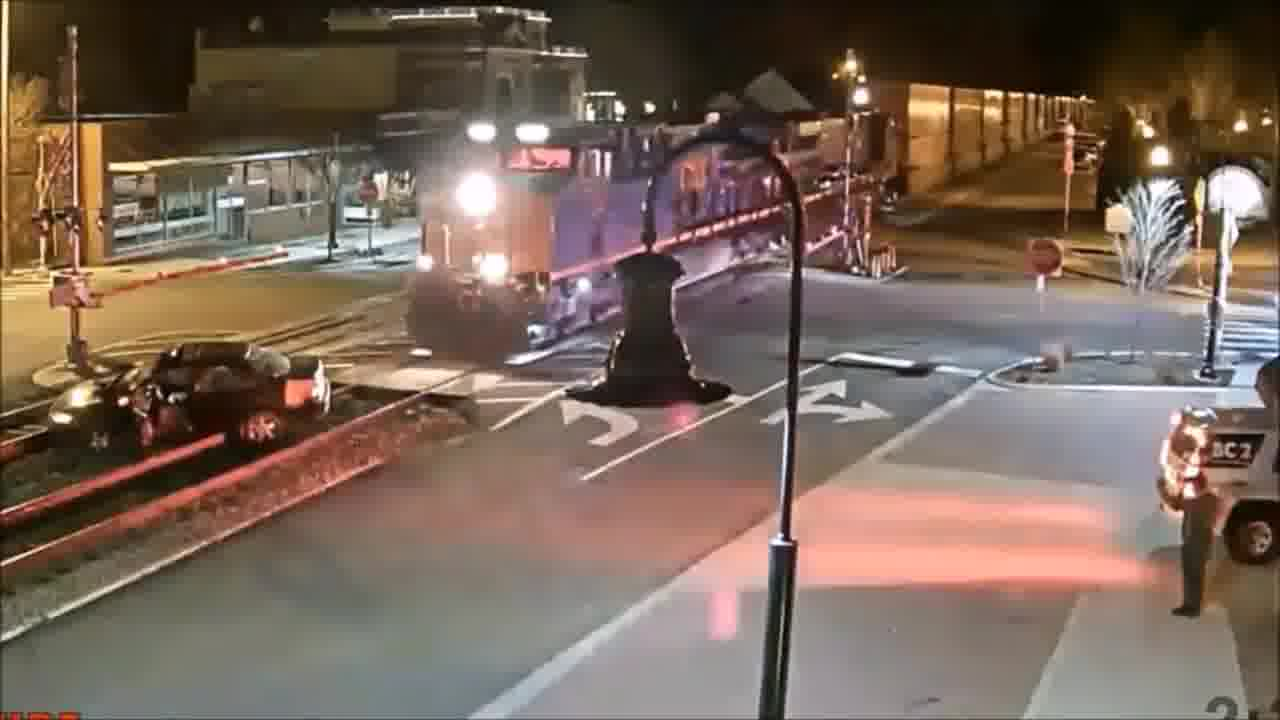crossing railway track: (38, 334, 356, 466)
